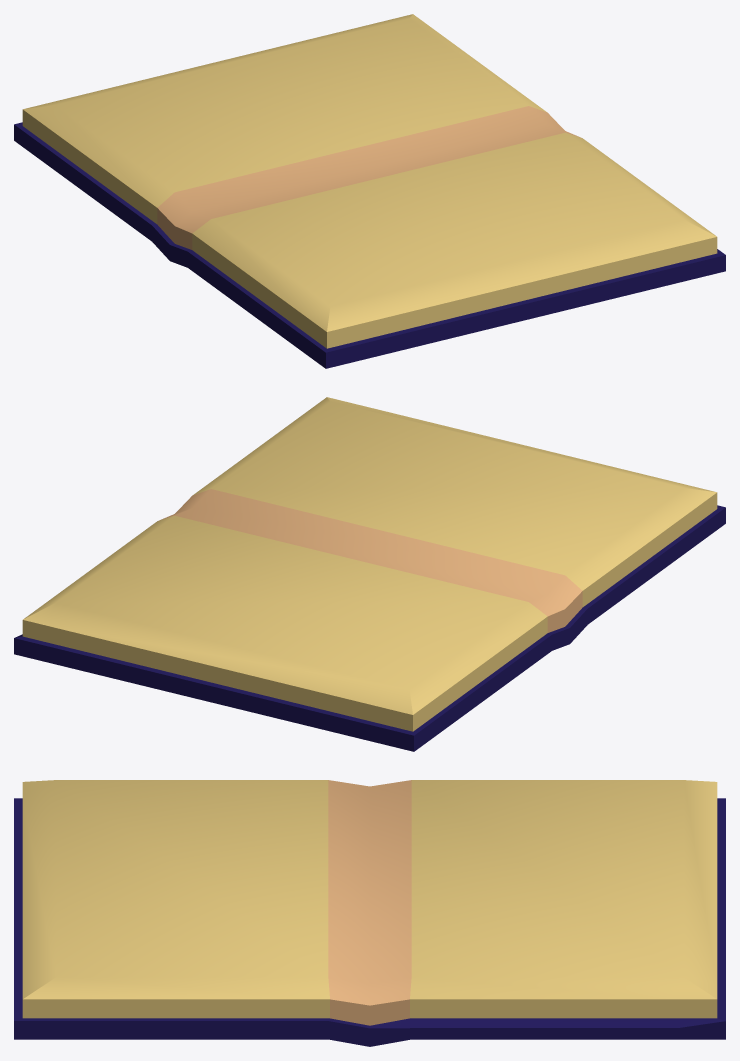
The model's file is Menu Book.fbx.
The picture shows the model from 3 angles, top to bottom: view 1: azimuth 30°, elevation 25°; view 2: azimuth 150°, elevation 25°; view 3: azimuth 270°, elevation 25°; orthographic projection. The views are drawn at different scales.
Parts seen in each view (by area): view 1: Cube; view 2: Cube; view 3: Cube.
Boxes of the visible parts, left/top/right/bottom form: Cube: left=14, top=14, right=725, bottom=368; Cube: left=14, top=397, right=725, bottom=751; Cube: left=14, top=780, right=725, bottom=1046.
Size of the model in its own units: 415 by 49.4 by 560.
